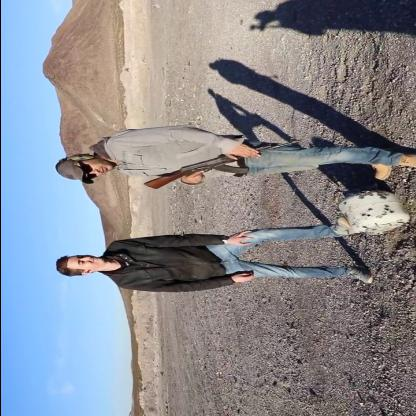long weapon: (140, 137, 294, 191)
